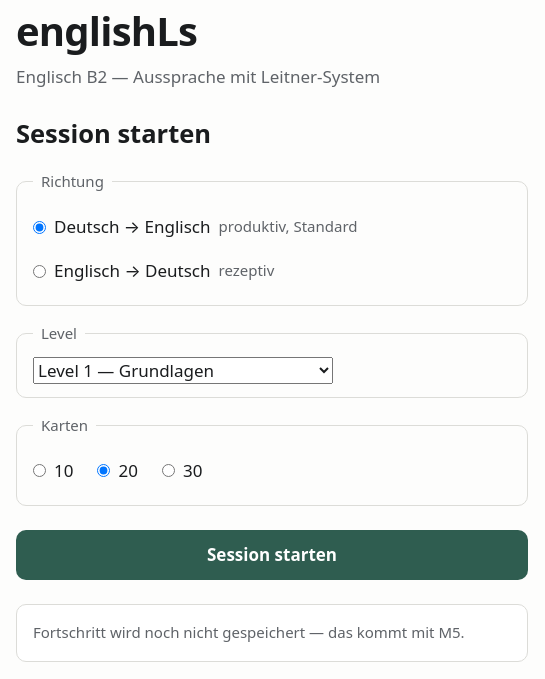
Test: card flow › does not give the answer away on the de-en front
Click the button "Session starten".
click(272, 555)  # box [16, 530, 528, 580]
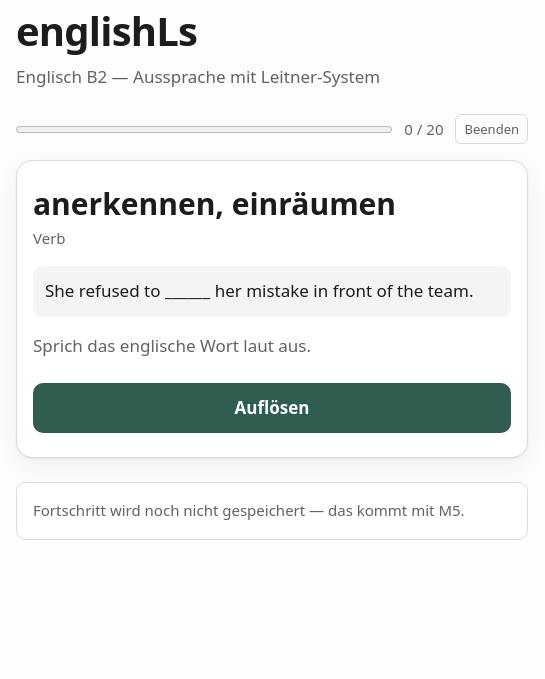
Now the heading "anerkennen, einräumen" is shown, box [33, 184, 396, 224]
